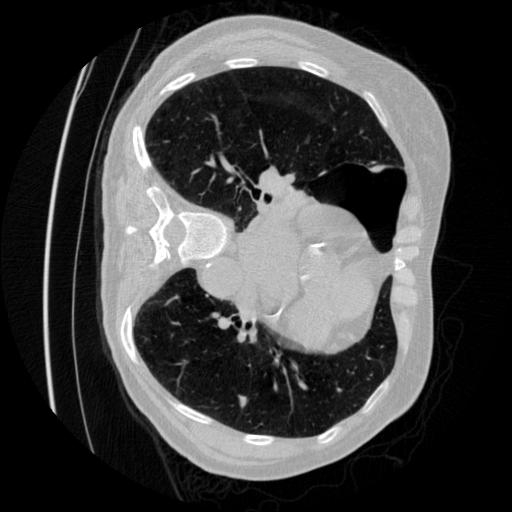nodule: (237, 393, 252, 408)
